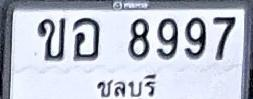7: (213, 16, 235, 60)
8: (128, 18, 149, 60)
9: (156, 17, 178, 59), (184, 16, 206, 58)
A02: (36, 17, 66, 61)
A43: (72, 17, 99, 60)
CBI: (96, 74, 159, 99)
